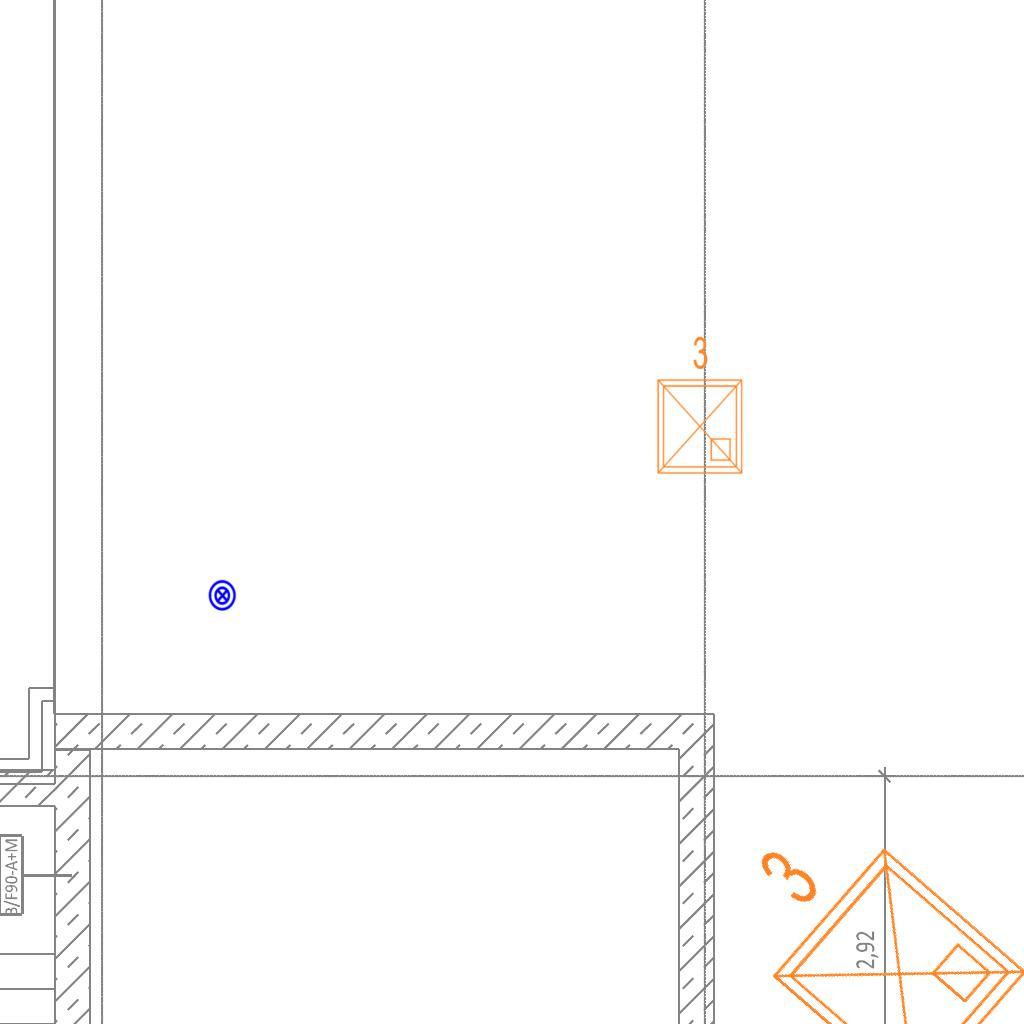Einbaudownlights_LED_Konferenzraeume: (684, 773, 1024, 1024), (646, 331, 750, 481)
Taster_beleuchtet: (206, 579, 239, 612)
